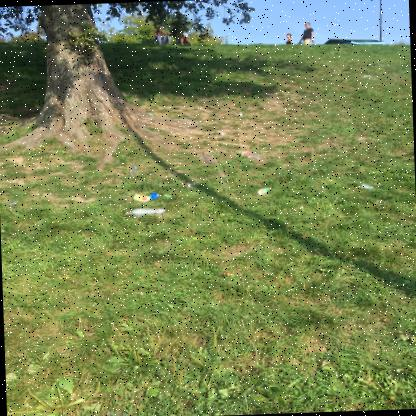Clear plastic bottle: (125, 208, 166, 217), (238, 151, 262, 160), (217, 131, 225, 135)
Drink can: (238, 113, 242, 118)
Drink carton: (133, 192, 159, 202)
Glass bottle: (130, 164, 137, 176)
Other plastic: (183, 183, 191, 187)
Paper cup: (258, 187, 269, 195)
Unlabeled litter: (8, 201, 18, 206), (164, 194, 172, 198), (363, 75, 372, 78), (190, 183, 195, 186), (149, 114, 153, 115)
